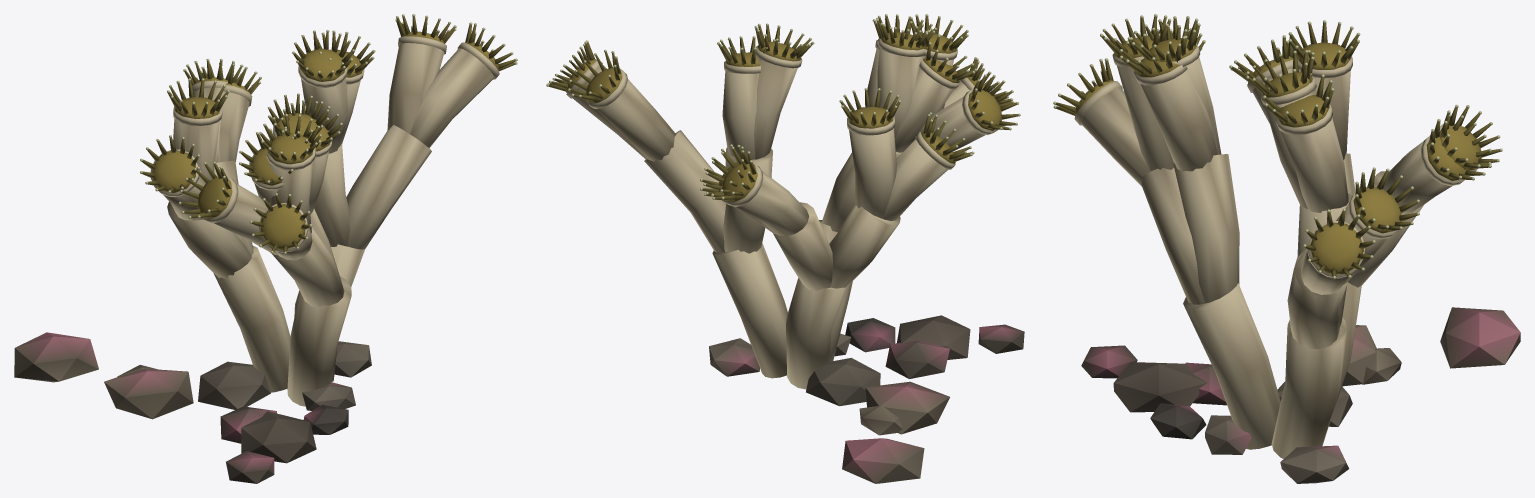
Rendered from Thecosmilia.fbx.
3 renders of one model, left to right at view 1: azimuth 30°, elevation 25°; view 2: azimuth 150°, elevation 25°; view 3: azimuth 270°, elevation 25°, orthographic. The views are drawn at different scales.
Visible parts, largest first — view 1: Thecosmilia; view 2: Thecosmilia; view 3: Thecosmilia.
Part boxes in pixels (x1,y1,x2,y2): Thecosmilia: (14,14,517,483); Thecosmilia: (546,14,1024,483); Thecosmilia: (1053,14,1520,483).
Bounding box in the file's own units: 1.06 × 0.8292 × 0.8432.
